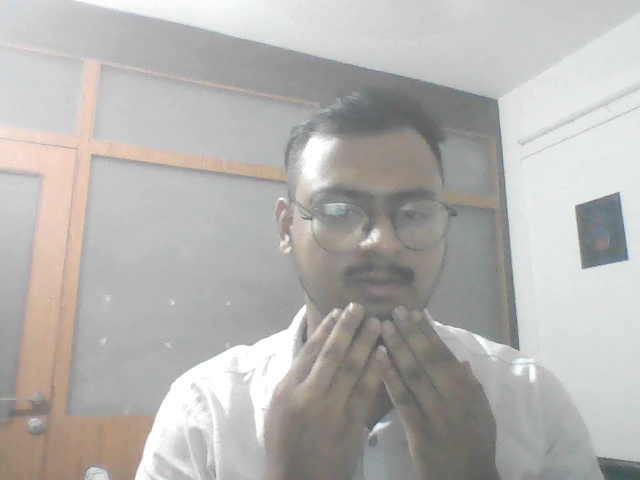ThankYou: (259, 301, 502, 480)
